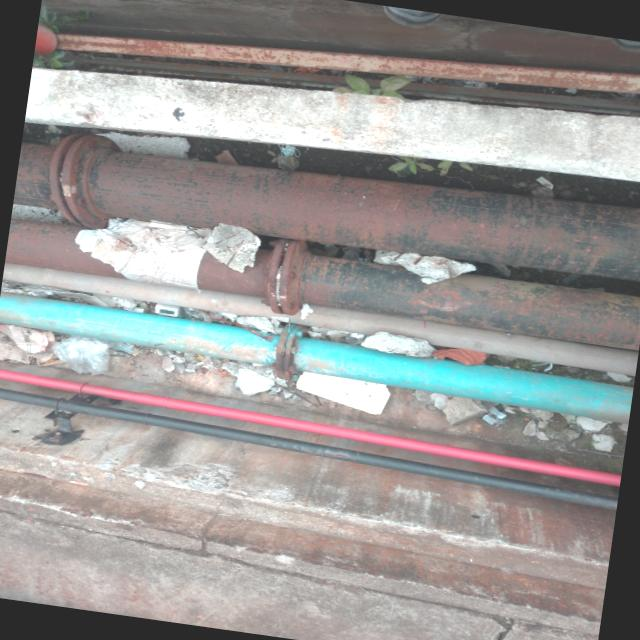gas: (0, 293, 633, 425), (20, 146, 640, 280), (10, 220, 640, 347), (0, 389, 616, 512), (0, 370, 617, 485), (4, 264, 638, 374)
